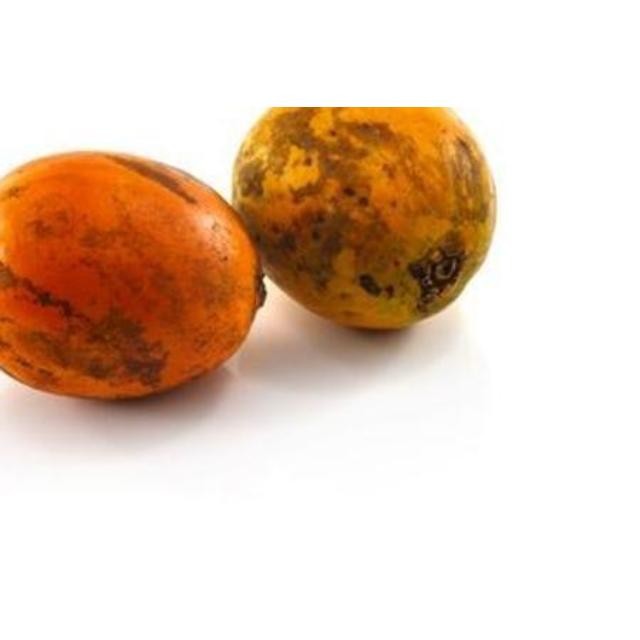good: (1, 151, 266, 403), (229, 107, 498, 333)
